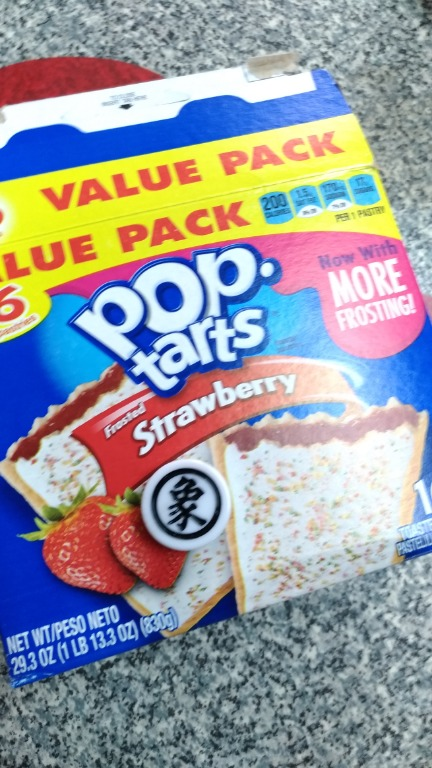b-elephant: (141, 455, 244, 564)
